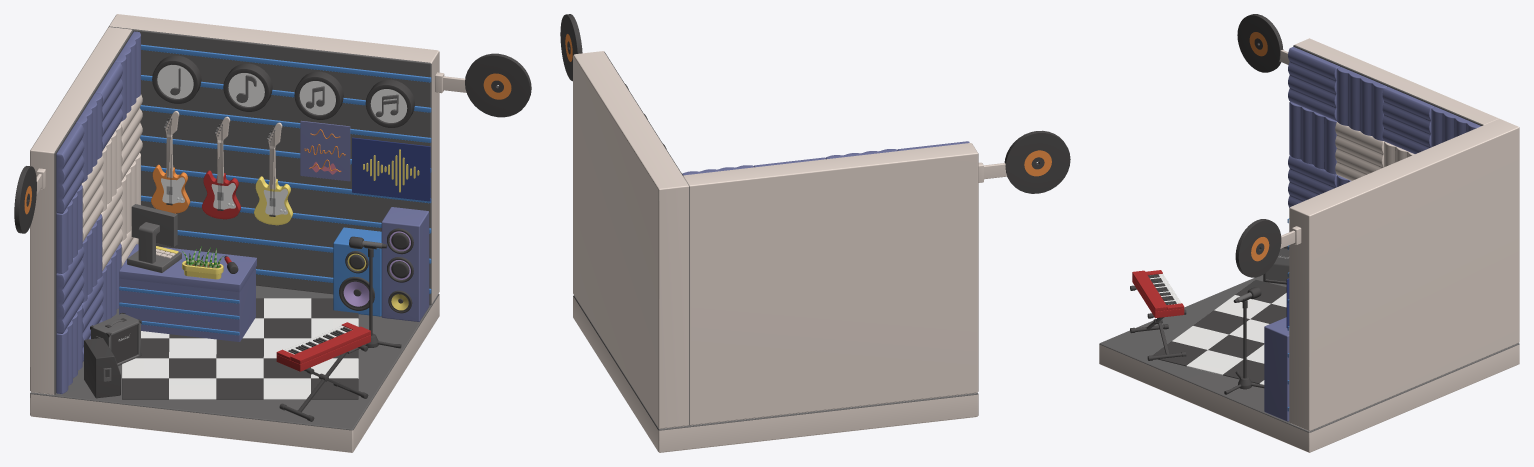
Rendered from Music_Store_20.glb.
3 views of the same model, side by side, from view 1: azimuth 30°, elevation 25°; view 2: azimuth 150°, elevation 25°; view 3: azimuth 270°, elevation 25° (orthographic). The views are drawn at different scales.
Visible parts, largest first — view 1: Music_Store_Wall_2, Music_Wall_Studio_1, Music_Store_Floor_1, Music_Note_Carpet_1, Music_Store_Wall_1, Music_Desk_1, Music_Speaker_2, Music_Wave_Poster_1, Music_Vinyl_Sign_2, Music_Speaker_1, Music_Synthesizer_1, Music_Wave_Poster_2 (+13 smaller); view 2: Music_Store_Wall_1, Music_Store_Wall_2, Music_Store_Floor_1, Music_Vinyl_Sign_1, Music_Vinyl_Sign_2, Music_Wall_Studio_1; view 3: Music_Store_Wall_2, Music_Wall_Studio_1, Music_Store_Floor_1, Music_Note_Carpet_1, Music_Store_Wall_1, Music_Speaker_2, Music_Vinyl_Sign_2, Music_Synthesizer_1, Music_Vinyl_Sign_1, Music_Microphone_2, Music_Guitar_Amp_Cabinet_1.
Part boxes in pixels (x1,y1,x2,y2): Music_Store_Wall_2: [108, 14, 439, 305]; Music_Wall_Studio_1: [56, 31, 142, 394]; Music_Store_Floor_1: [30, 286, 439, 452]; Music_Note_Carpet_1: [122, 298, 358, 399]; Music_Store_Wall_1: [30, 27, 133, 394]; Music_Desk_1: [119, 244, 256, 341]; Music_Speaker_2: [381, 207, 429, 321]; Music_Wave_Poster_1: [352, 137, 430, 201]; Music_Vinyl_Sign_2: [434, 53, 531, 117]; Music_Speaker_1: [333, 227, 381, 316]; Music_Synthesizer_1: [276, 322, 370, 421]; Music_Wave_Poster_2: [300, 120, 350, 181]; Music_Store_Wall_1: [683, 143, 978, 425]; Music_Store_Wall_2: [573, 51, 689, 428]; Music_Store_Floor_1: [573, 295, 978, 452]; Music_Vinyl_Sign_1: [978, 130, 1070, 193]; Music_Vinyl_Sign_2: [560, 14, 582, 81]; Music_Wall_Studio_1: [682, 141, 969, 175]; Music_Store_Wall_2: [1287, 118, 1519, 431]; Music_Wall_Studio_1: [1288, 46, 1481, 207]; Music_Store_Floor_1: [1099, 275, 1519, 452]; Music_Note_Carpet_1: [1152, 280, 1286, 385]; Music_Store_Wall_1: [1293, 38, 1498, 125]; Music_Speaker_2: [1264, 317, 1289, 421]; Music_Vinyl_Sign_2: [1235, 219, 1301, 277]; Music_Synthesizer_1: [1130, 270, 1186, 360]; Music_Vinyl_Sign_1: [1237, 14, 1289, 72]; Music_Microphone_2: [1224, 287, 1264, 394]; Music_Guitar_Amp_Cabinet_1: [1263, 246, 1289, 284].
Size of the model in its own units: 8.9 by 4.55 by 7.04.
Materials: 1 (1 with a texture image).
